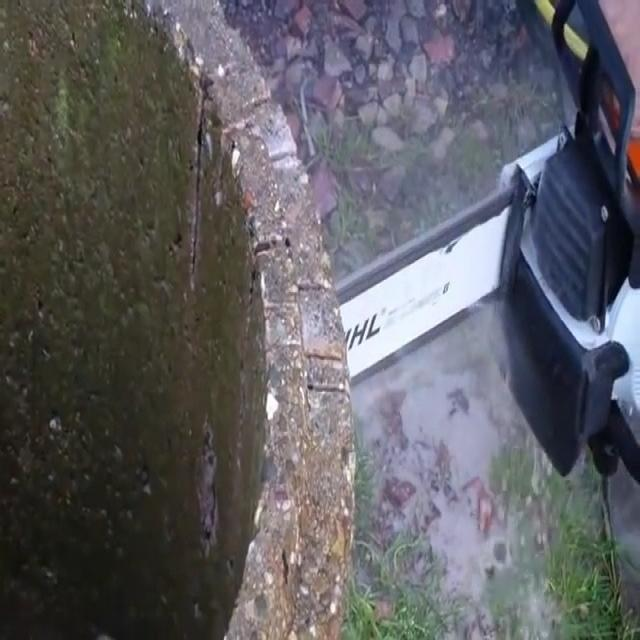Chainsaw: (311, 9, 640, 508)
